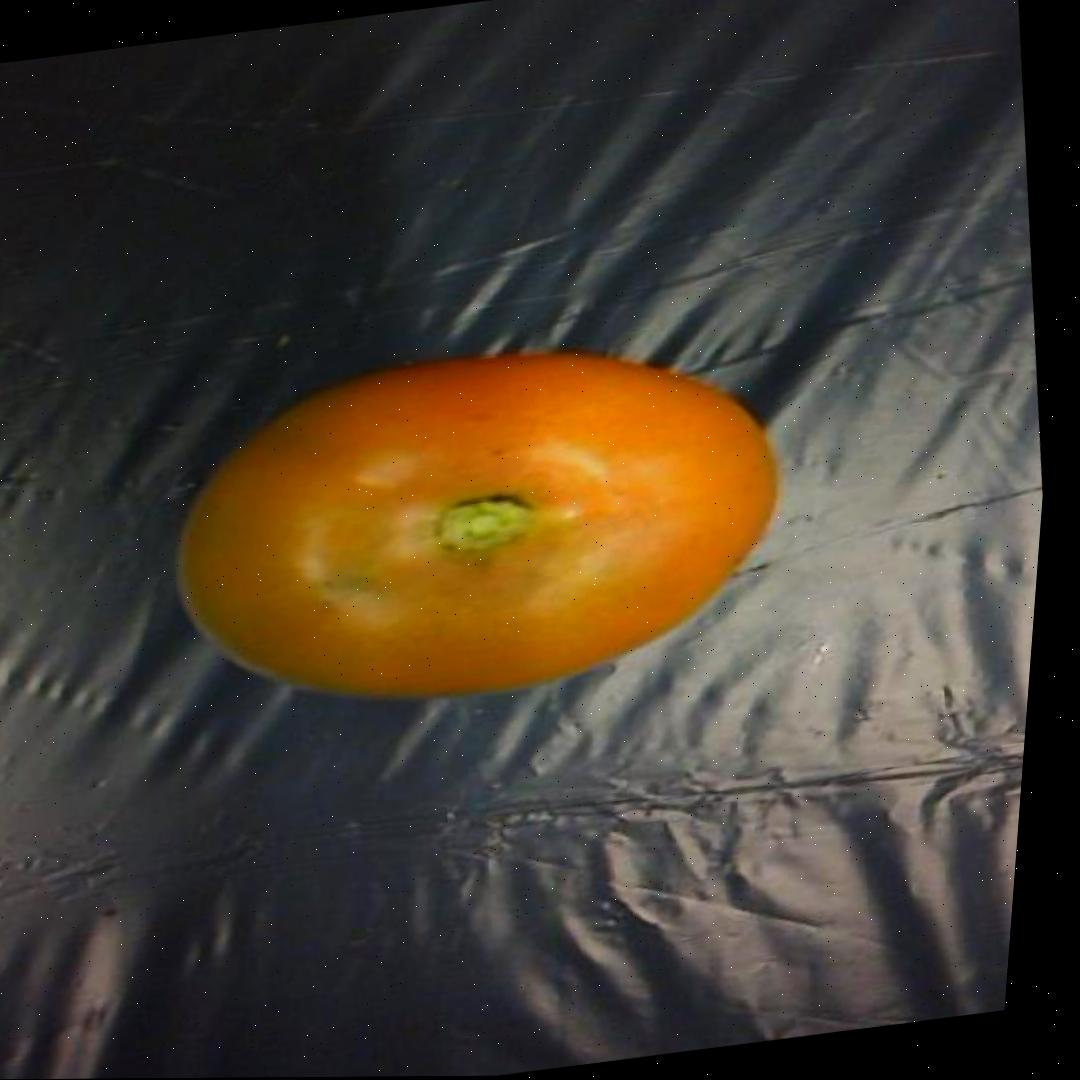mentah: (133, 312, 812, 740)
